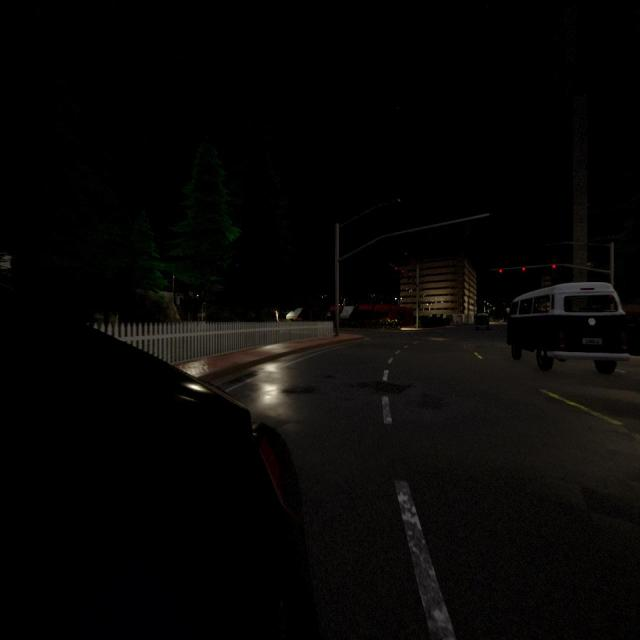Vehicle: (0, 280, 301, 639), (506, 282, 630, 377), (474, 312, 489, 326)
traffic_light: (552, 263, 556, 272), (522, 266, 525, 275), (499, 268, 502, 275), (395, 266, 397, 272), (402, 269, 404, 274), (409, 272, 410, 277)
